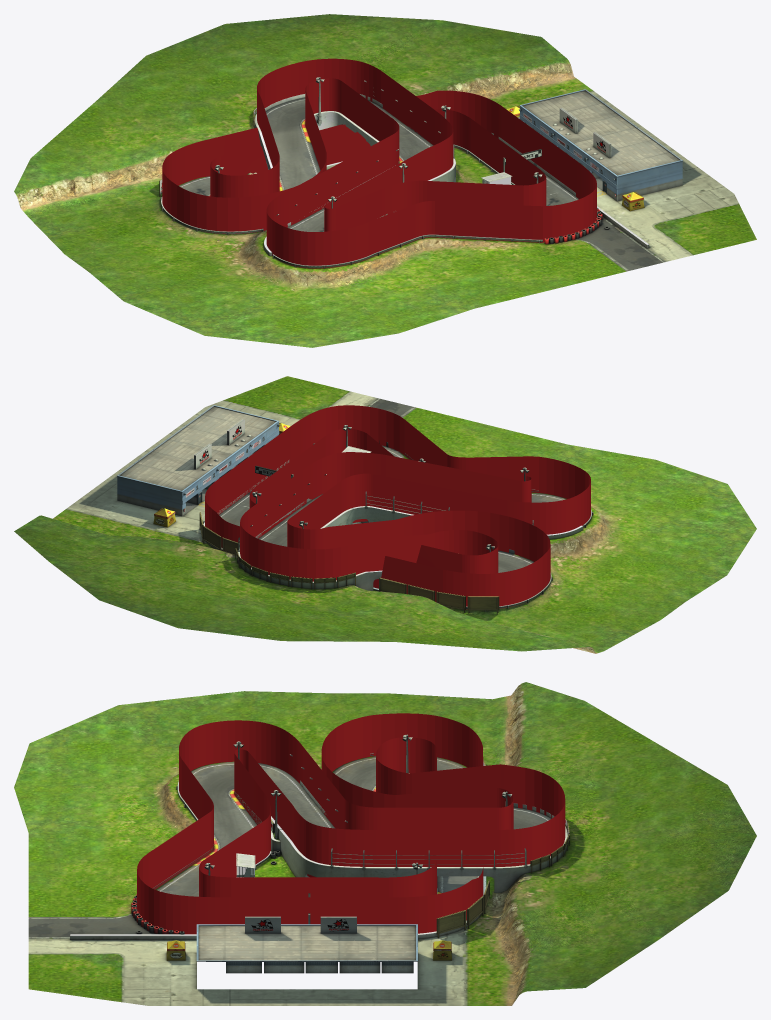
The model's file is escenario-rojo1.obj.
The picture shows the model from 3 angles, top to bottom: view 1: azimuth 30°, elevation 25°; view 2: azimuth 150°, elevation 25°; view 3: azimuth 270°, elevation 25°; orthographic projection. The views are drawn at different scales.
Visible parts, largest first — view 1: Mesh_Raceway_Collision_Rework_Wall; view 2: Mesh_Raceway_Collision_Rework_Wall; view 3: Mesh_Raceway_Collision_Rework_Wall.
Boxes of the visible parts, x1,y1,x2,y2 form: Mesh_Raceway_Collision_Rework_Wall: (14,14,756,347); Mesh_Raceway_Collision_Rework_Wall: (14,376,756,653); Mesh_Raceway_Collision_Rework_Wall: (14,682,756,1005).
Size of the model in its own units: 25.12 by 3.48 by 25.07.
Materials: 5 (4 with a texture image).
